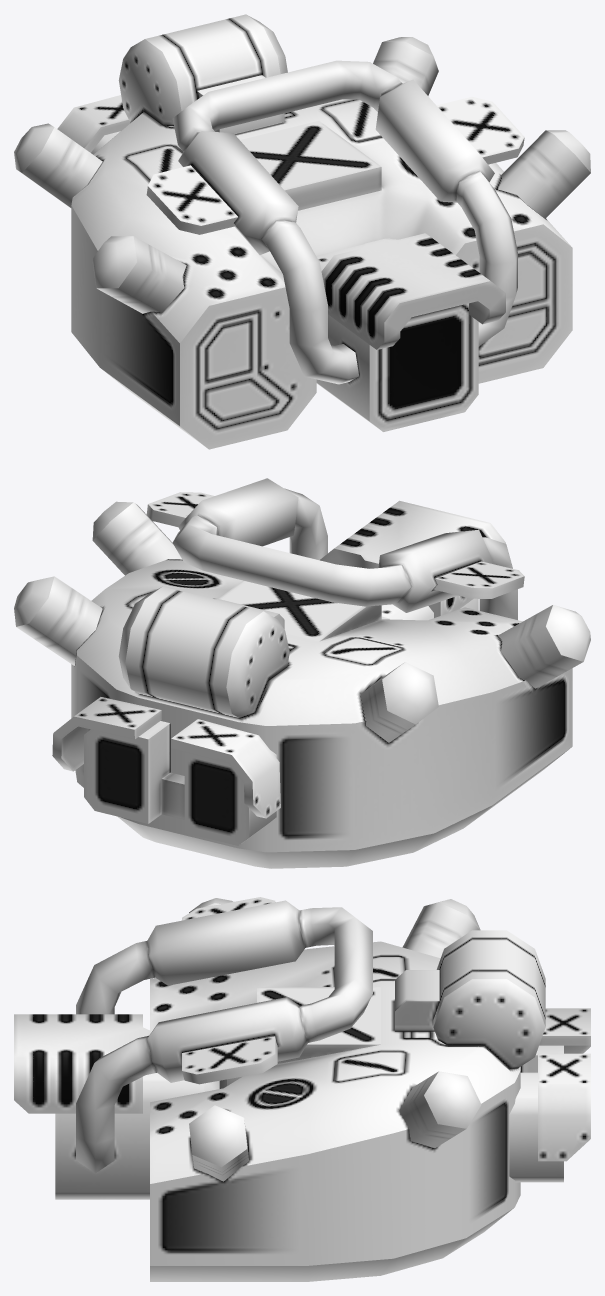
The model's file is Enemy_Flamer.FBX.
3 renders of one model, top to bottom at view 1: azimuth 30°, elevation 25°; view 2: azimuth 150°, elevation 25°; view 3: azimuth 270°, elevation 25°, orthographic.
Visible parts, largest first — view 1: Enemy_Flamer, Enemy_Flamer_Up_Gun, Enemy_Flamer_Up_Armor, Enemy_Flamer_Up_Speed; view 2: Enemy_Flamer, Enemy_Flamer_Up_Speed, Enemy_Flamer_Up_Gun, Enemy_Flamer_Up_Armor; view 3: Enemy_Flamer, Enemy_Flamer_Up_Gun, Enemy_Flamer_Up_Speed, Enemy_Flamer_Up_Armor.
Boxes of the visible parts, box(x1,y1,x2,y2) form: Enemy_Flamer: box(14, 14, 590, 449); Enemy_Flamer_Up_Gun: box(321, 233, 505, 349); Enemy_Flamer_Up_Armor: box(146, 97, 524, 234); Enemy_Flamer_Up_Speed: box(57, 95, 130, 152); Enemy_Flamer: box(14, 478, 590, 868); Enemy_Flamer_Up_Speed: box(52, 697, 280, 818); Enemy_Flamer_Up_Gun: box(320, 500, 505, 617); Enemy_Flamer_Up_Armor: box(146, 492, 524, 598); Enemy_Flamer: box(55, 898, 563, 1281); Enemy_Flamer_Up_Gun: box(14, 1014, 151, 1113); Enemy_Flamer_Up_Speed: box(538, 1008, 590, 1161); Enemy_Flamer_Up_Armor: box(182, 897, 277, 1084).
Size of the model in its own units: 247 by 124 by 255.
